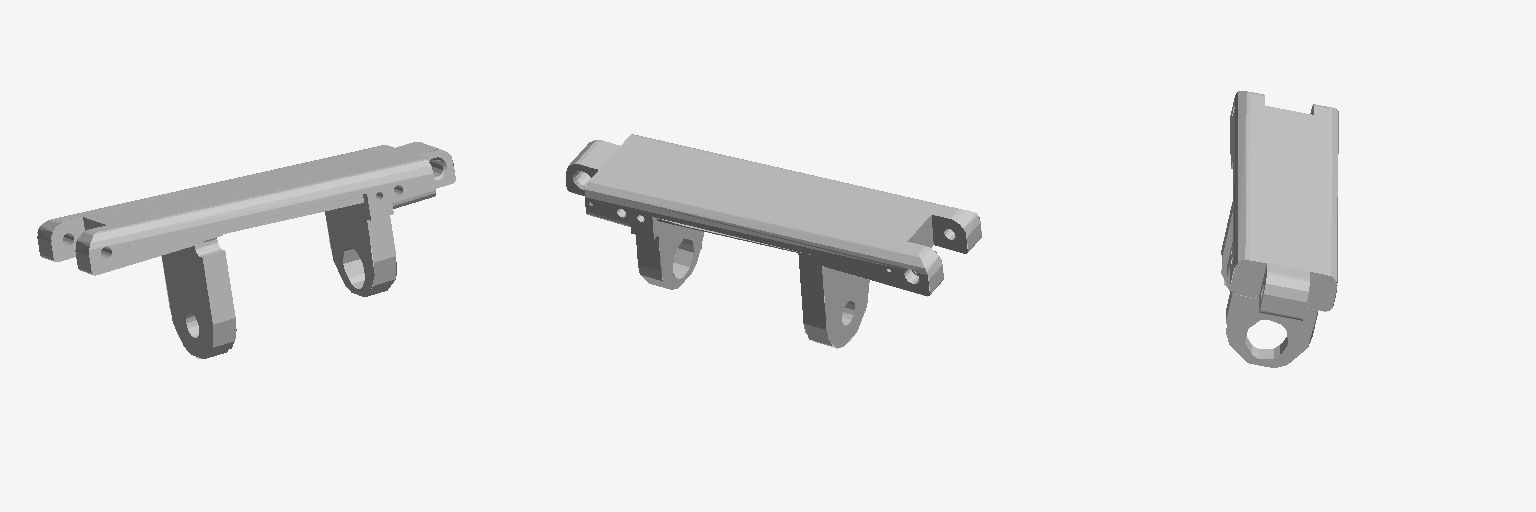
Rendered from handl_finger_index1_joint.obj.
3 views of the same model, side by side, from view 1: azimuth 30°, elevation 25°; view 2: azimuth 150°, elevation 25°; view 3: azimuth 270°, elevation 25° (orthographic).
Size of the model in its own units: 0.0499 by 0.0195 by 0.0134.